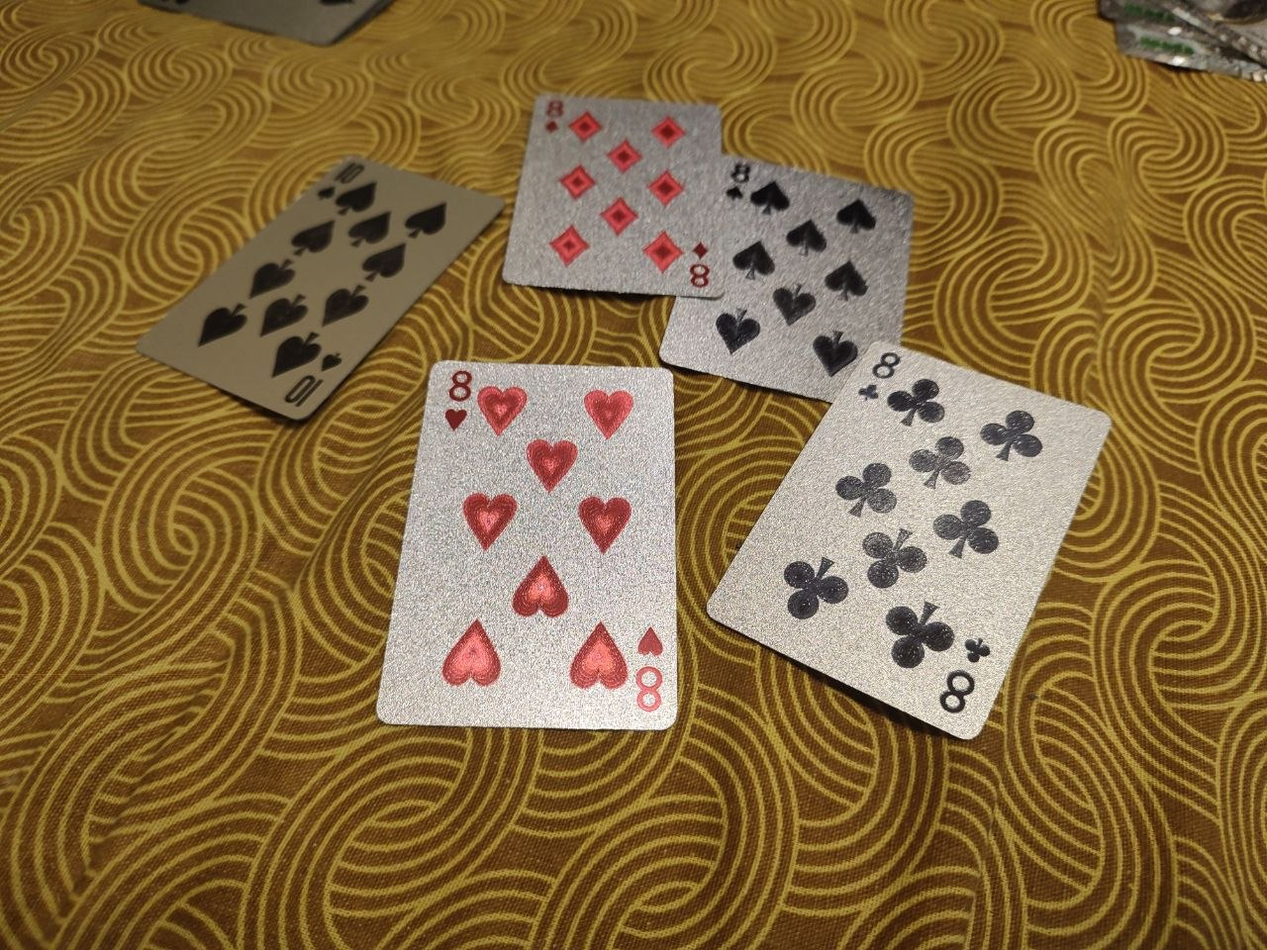10S: (136, 156, 507, 422)
8C: (707, 337, 1113, 740)
8D: (505, 94, 726, 298)
8H: (379, 360, 679, 731)
8S: (656, 155, 915, 402)
